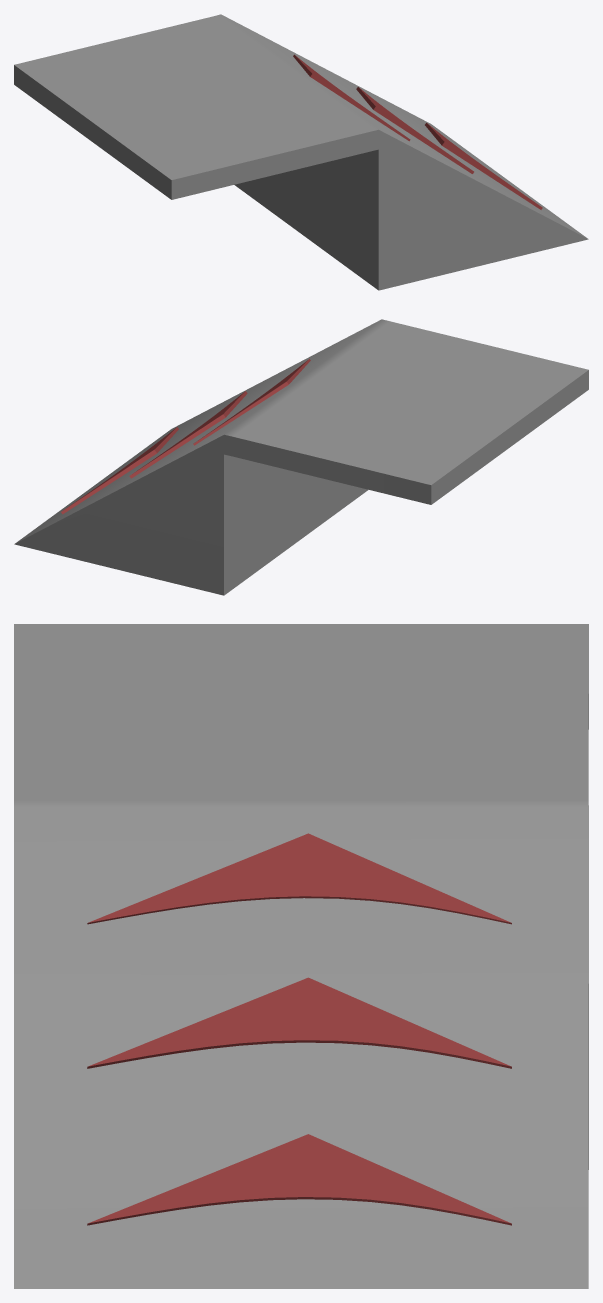
File: qiao03.fbx
3 renders of one model, top to bottom at view 1: azimuth 30°, elevation 25°; view 2: azimuth 150°, elevation 25°; view 3: azimuth 270°, elevation 25°, orthographic. The views are drawn at different scales.
Visible parts, largest first — view 1: 对象011; view 2: 对象011; view 3: 对象011.
Boxes of the visible parts, x1=… form: 对象011: x1=14, y1=14, x2=588, y2=290; 对象011: x1=14, y1=319, x2=588, y2=595; 对象011: x1=14, y1=624, x2=588, y2=1288.
Bounding box in the file's own units: 832 × 306 × 544.
